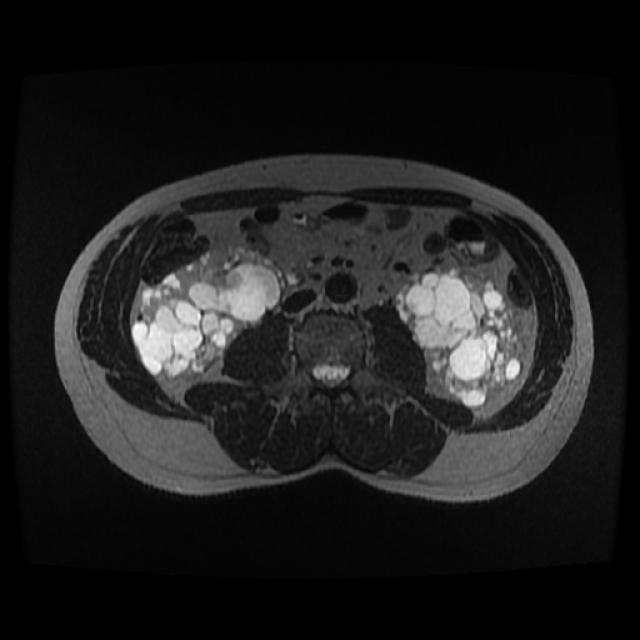sag: (128, 242, 289, 386)
sol: (391, 260, 531, 411)
